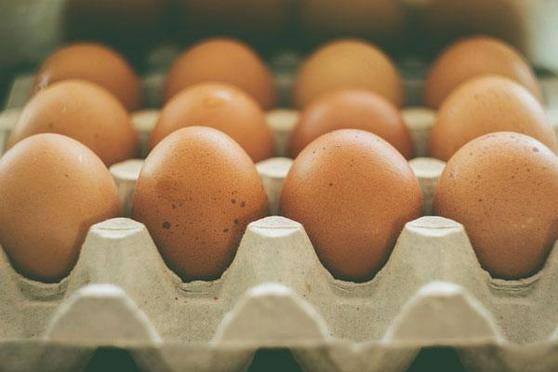egg: (281, 139, 424, 283), (132, 130, 272, 271), (435, 133, 556, 277), (9, 136, 121, 286)
